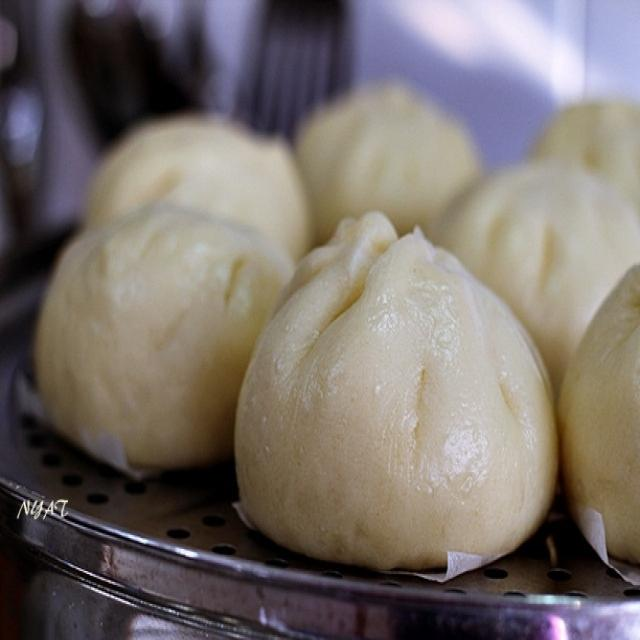带馅早点: (25, 39, 628, 615)
